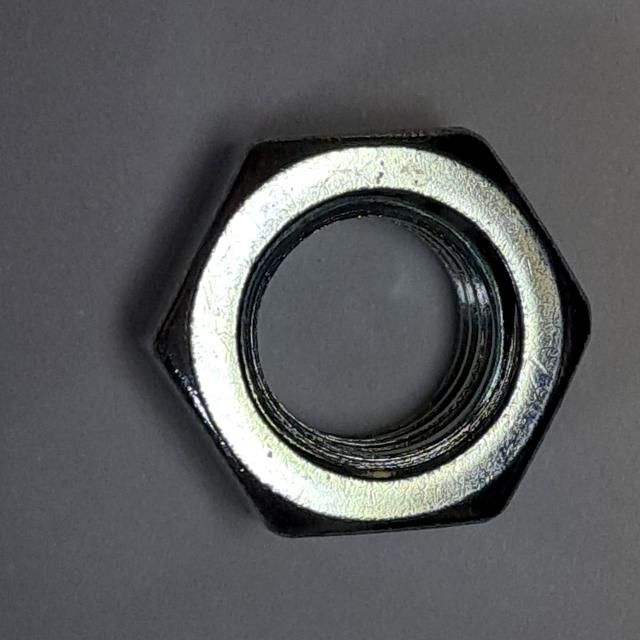Excellent: (117, 109, 603, 556)
